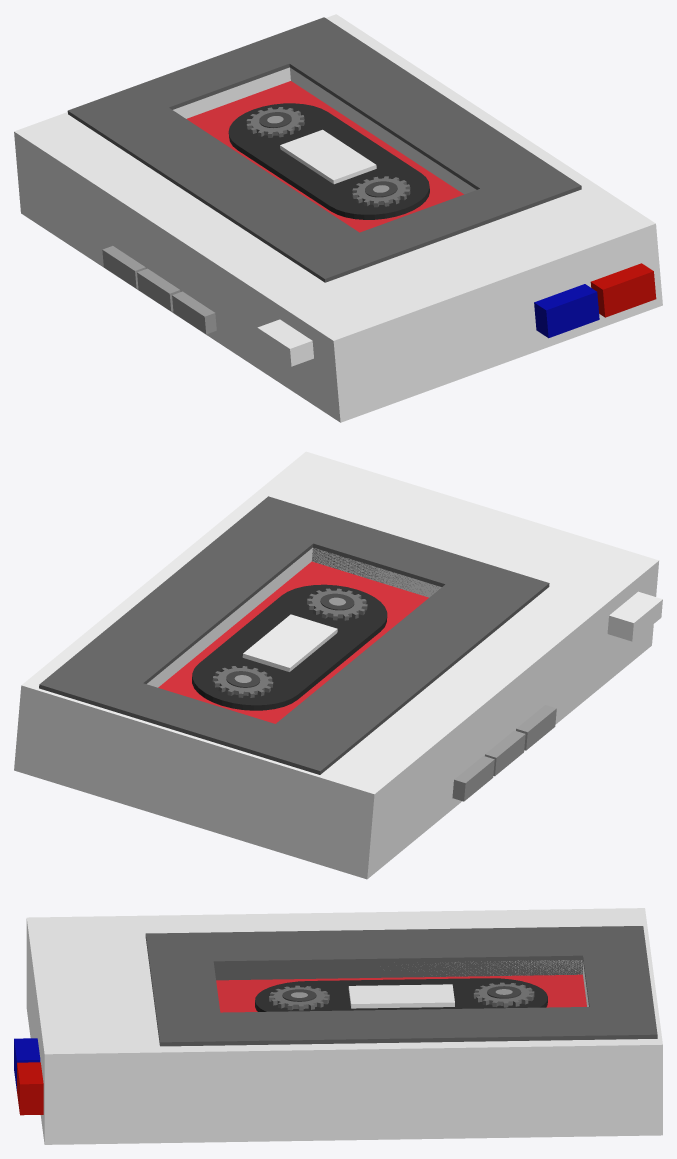
Rendered from qwqw.glb.
3 views of the same model, one above another, from view 1: azimuth 30°, elevation 25°; view 2: azimuth 150°, elevation 25°; view 3: azimuth 270°, elevation 25° (orthographic). The views are drawn at different scales.
Visible parts, largest first — view 1: Circle.023; view 2: Circle.023; view 3: Circle.023.
Boxes of the visible parts, x1,y1,x2,y2 form: Circle.023: (14, 14, 662, 422); Circle.023: (14, 451, 662, 879); Circle.023: (14, 908, 662, 1144).
Bounding box in the file's own units: 3.99 × 1.24 × 5.91.
